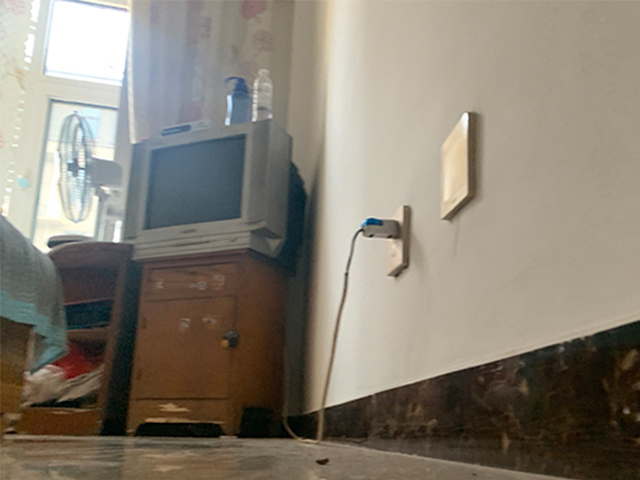cabinet: (17, 241, 291, 439)
wire: (284, 216, 399, 443)
